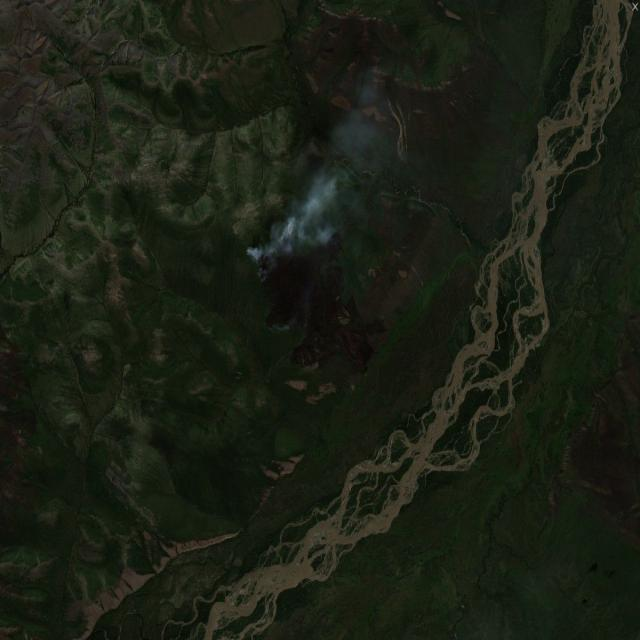fire: (243, 221, 306, 336)
